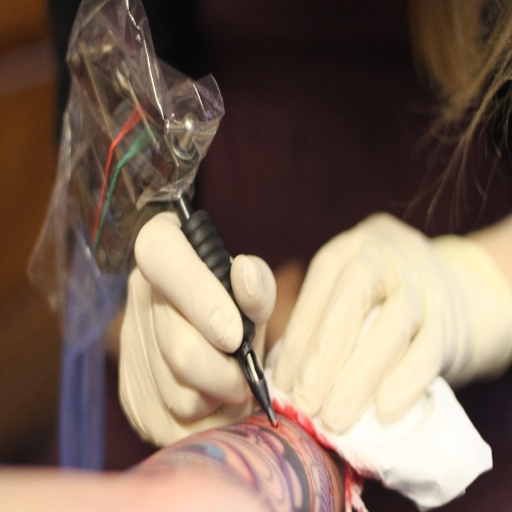hand: (269, 209, 459, 438), (112, 178, 263, 452), (265, 253, 304, 350)
